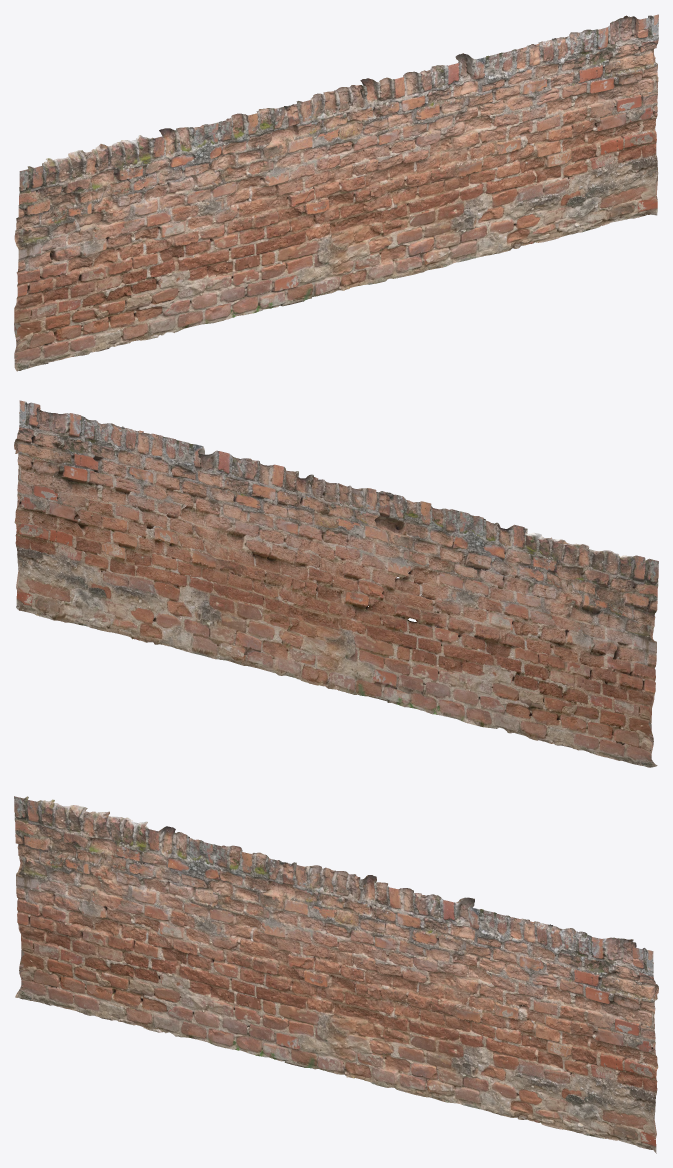
File: low_mixed_dark_bricks_wall.glb
3 views of the same model, one above another, from view 1: azimuth 30°, elevation 25°; view 2: azimuth 150°, elevation 25°; view 3: azimuth 330°, elevation 25° (orthographic).
Parts seen in each view (by area): view 1: low-brick-wall_low-brick-wall_u1_v1_0, low-brick-wall_low-brick-wall_u2_v1_0; view 2: low-brick-wall_low-brick-wall_u1_v1_0, low-brick-wall_low-brick-wall_u2_v1_0; view 3: low-brick-wall_low-brick-wall_u1_v1_0, low-brick-wall_low-brick-wall_u2_v1_0.
Boxes of the visible parts, x1,y1,x2,y2 form: low-brick-wall_low-brick-wall_u1_v1_0: (14, 14, 658, 371); low-brick-wall_low-brick-wall_u2_v1_0: (15, 14, 658, 328); low-brick-wall_low-brick-wall_u1_v1_0: (14, 400, 658, 767); low-brick-wall_low-brick-wall_u2_v1_0: (14, 401, 654, 726); low-brick-wall_low-brick-wall_u1_v1_0: (14, 796, 658, 1153); low-brick-wall_low-brick-wall_u2_v1_0: (18, 816, 658, 1149).
Size of the model in its own units: 37.39 by 11.55 by 1.14.
Materials: 2 (2 with a texture image).
